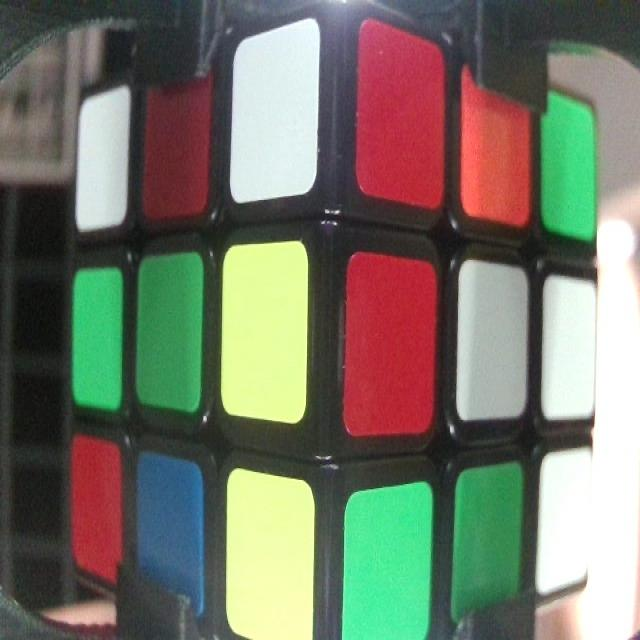b: (139, 472, 201, 601)
g: (348, 498, 428, 637), (140, 261, 200, 414), (458, 475, 518, 605), (544, 95, 594, 233), (76, 275, 121, 410)
o: (462, 88, 530, 218)
r: (347, 266, 431, 425), (358, 44, 442, 191), (149, 86, 206, 205), (72, 451, 122, 566)
w: (235, 55, 315, 174), (460, 278, 525, 406), (545, 278, 592, 413), (544, 455, 588, 583), (79, 108, 125, 212)
y: (224, 252, 304, 412), (228, 482, 312, 632)
